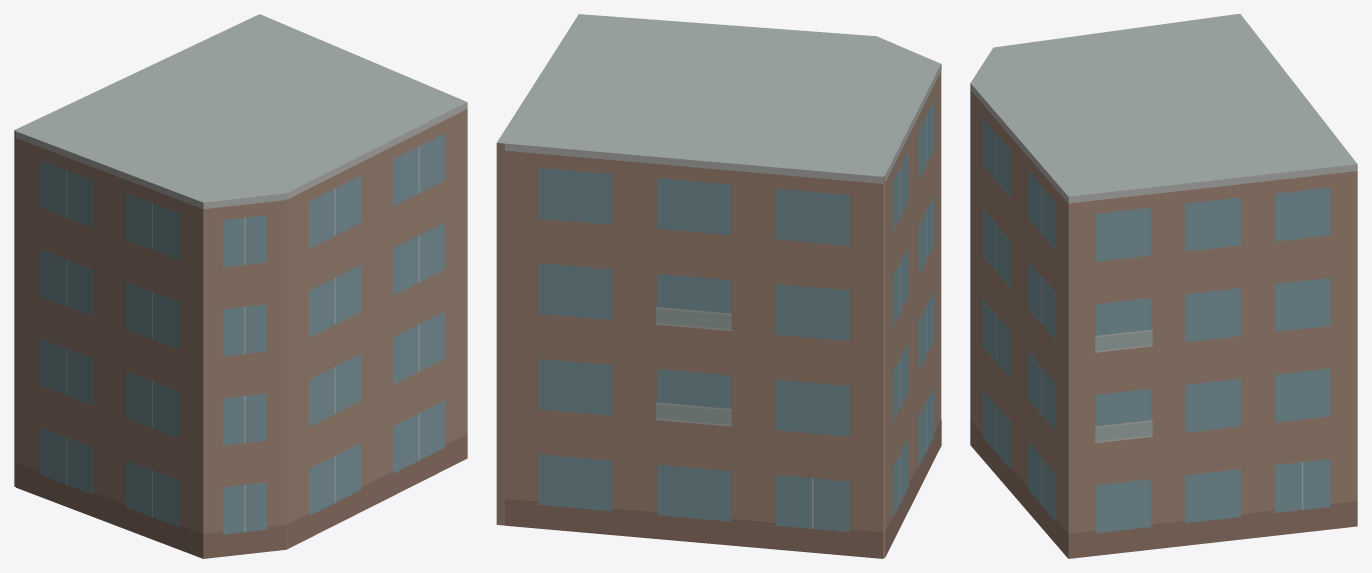
File: survey-upis-32918757.glb
3 renders of one model, left to right at view 1: azimuth 30°, elevation 25°; view 2: azimuth 150°, elevation 25°; view 3: azimuth 270°, elevation 25°, orthographic. The views are drawn at different scales.
Parts seen in each view (by area): view 1: survey-upis-32918757.tmp; view 2: survey-upis-32918757.tmp; view 3: survey-upis-32918757.tmp.
Part boxes in pixels (x1,y1,x2,y2): survey-upis-32918757.tmp: (14, 14, 467, 558); survey-upis-32918757.tmp: (496, 14, 941, 558); survey-upis-32918757.tmp: (970, 14, 1357, 558).
Bounding box in the file's own units: 14.19 × 13.1 × 12.7.
